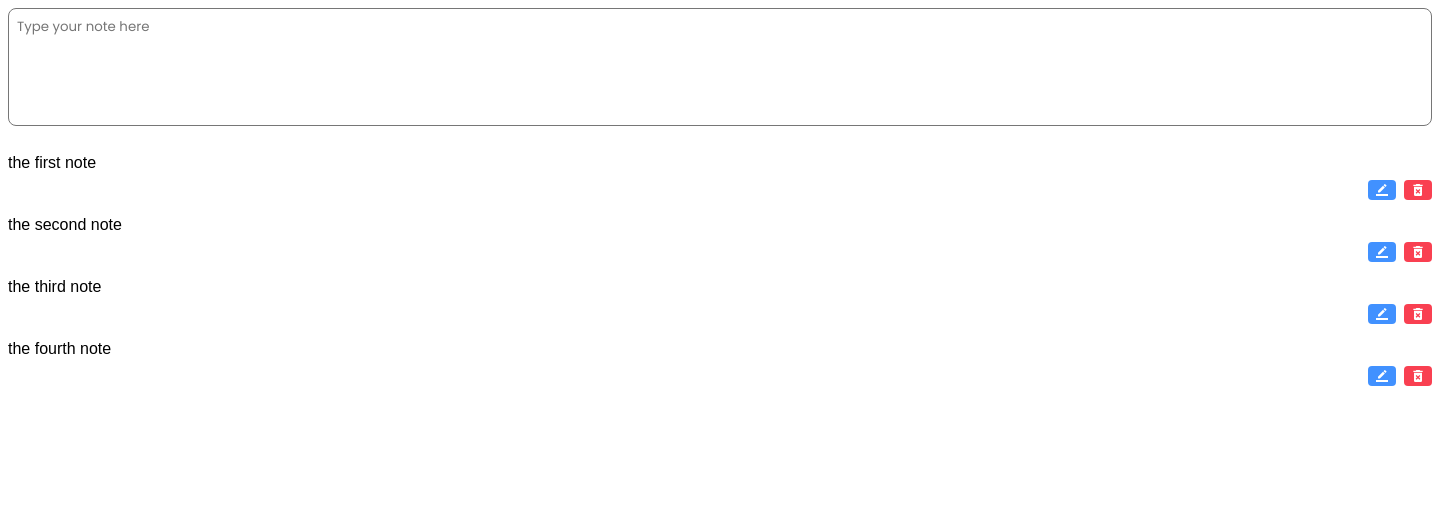
Scenario: Notes Component › edits a note
The width and height of the screenshot is (1440, 515).
Click the 1st button with test id "edit-note": click(1382, 190) top-left (1368, 180), bottom-right (1396, 200)
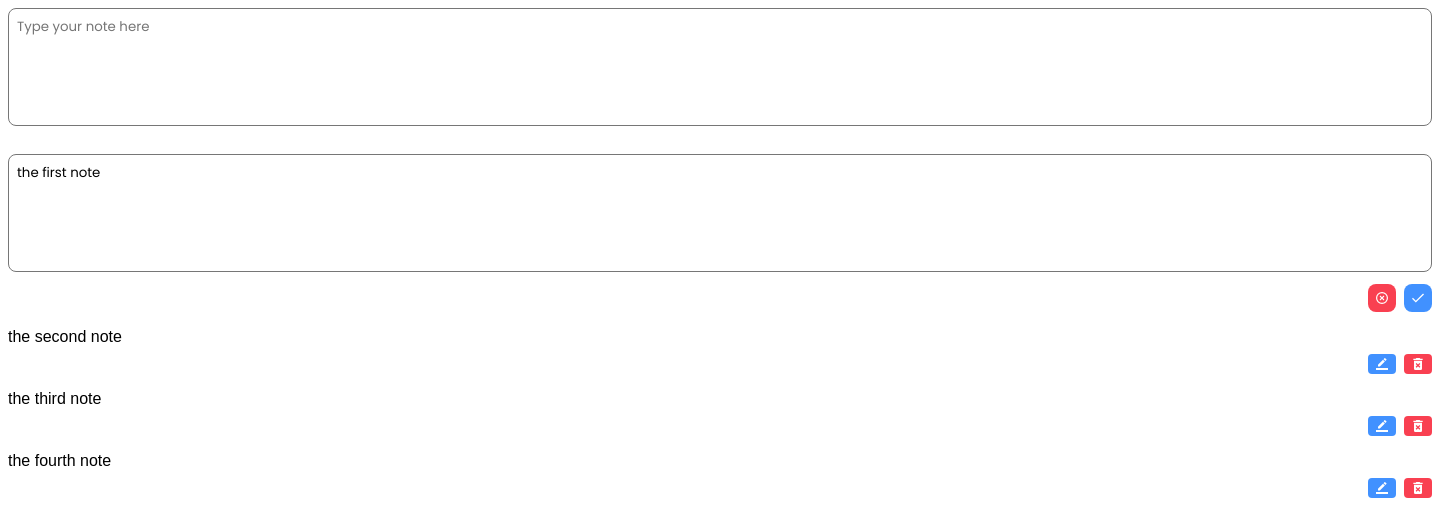
expect the text box showing "note" is shown: met, box top-left (8, 154), bottom-right (1432, 272)
